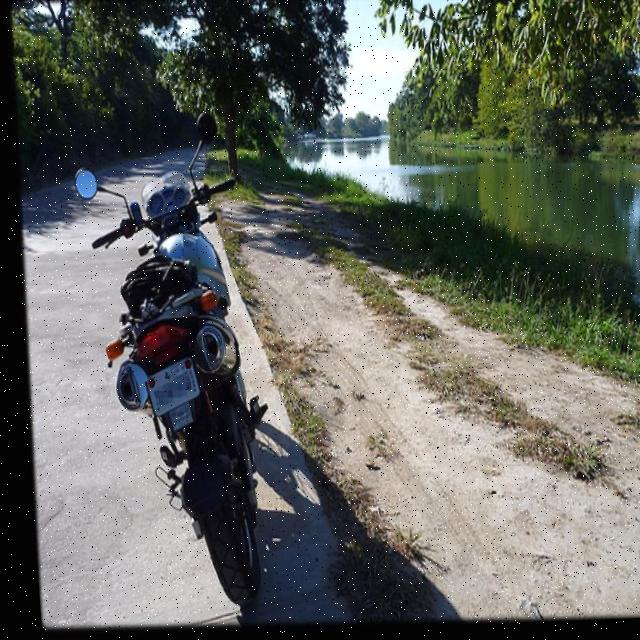motorcycle: (55, 95, 295, 627)
